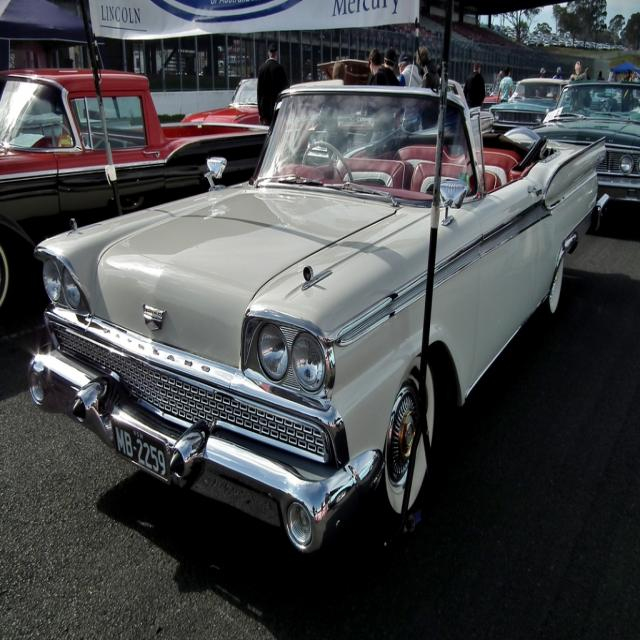other: (38, 87, 593, 558)
